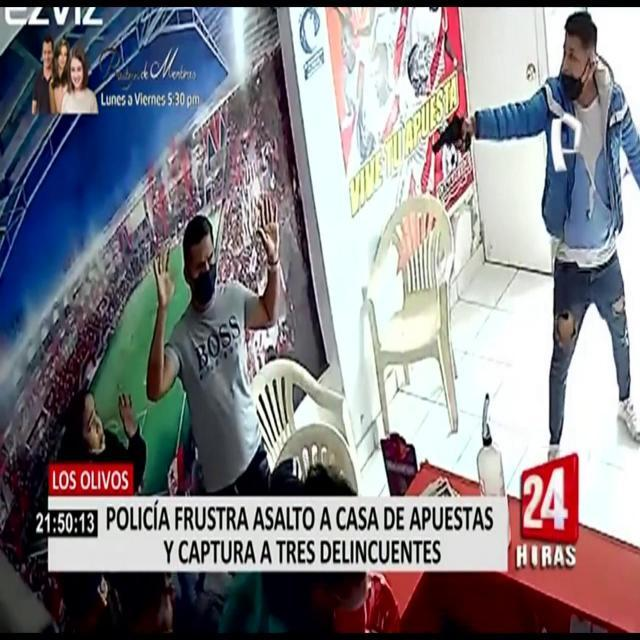weapon: (423, 100, 475, 183)
